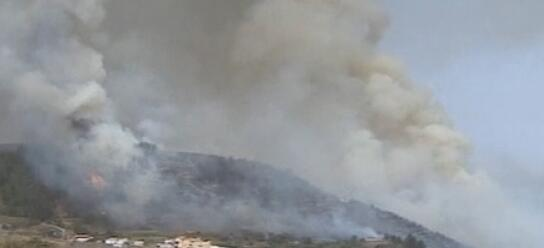yanwu: (1, 0, 541, 232)
